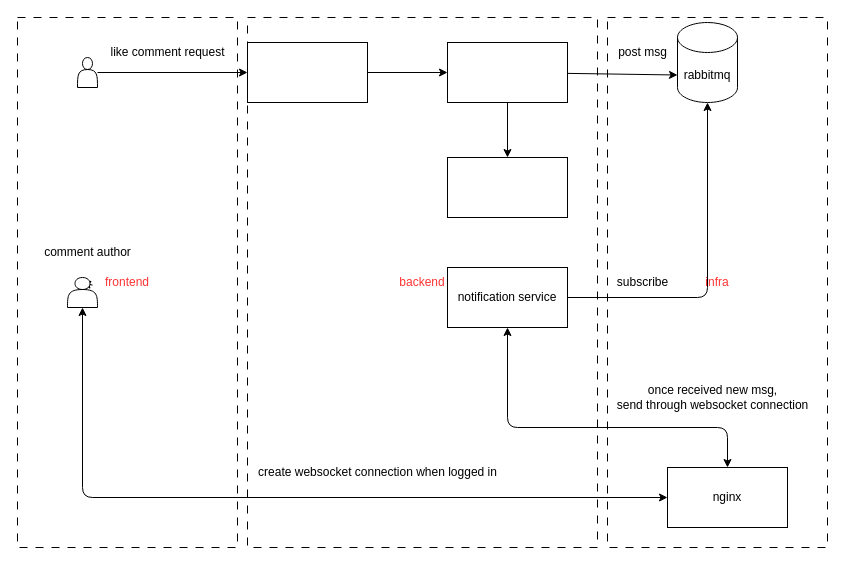
Image size: 845x565. Some labels were removed from this diagram. The centre of each missing label's shape, as x and y in pixels:
"comment api" goes at point (307, 72).
"comment service" goes at point (507, 72).
"notification service (crud)" goes at point (507, 187).
